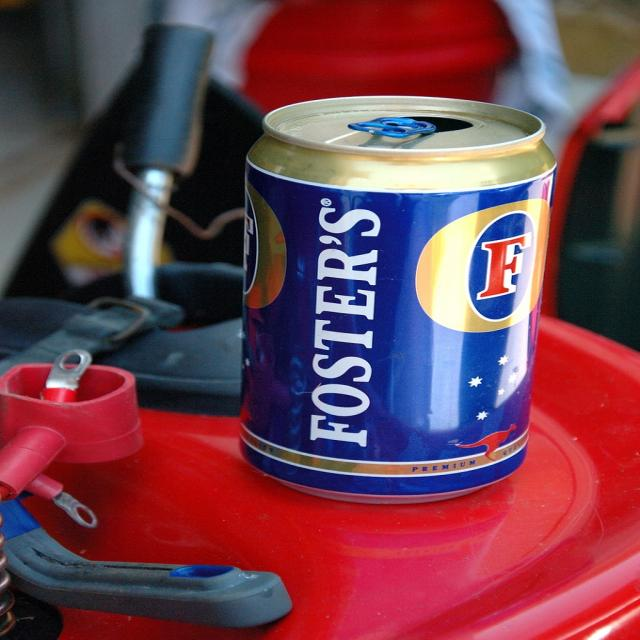fosters: (413, 197, 553, 334)
